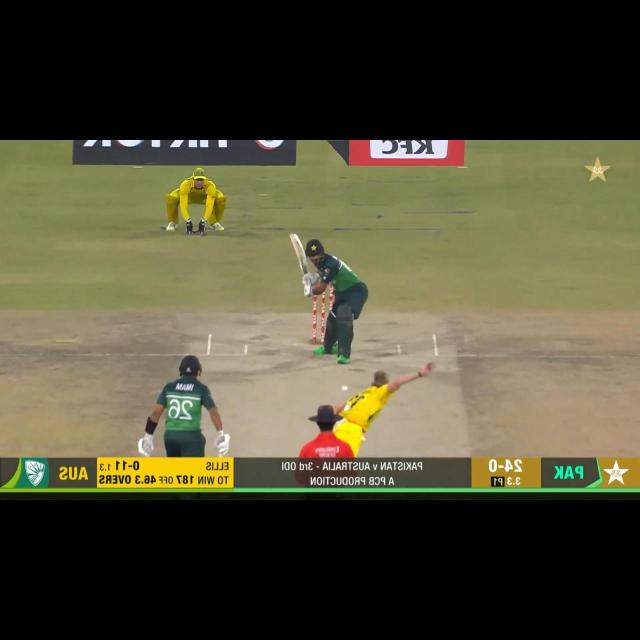bat: (289, 233, 309, 274)
toe: (288, 234, 300, 241)
